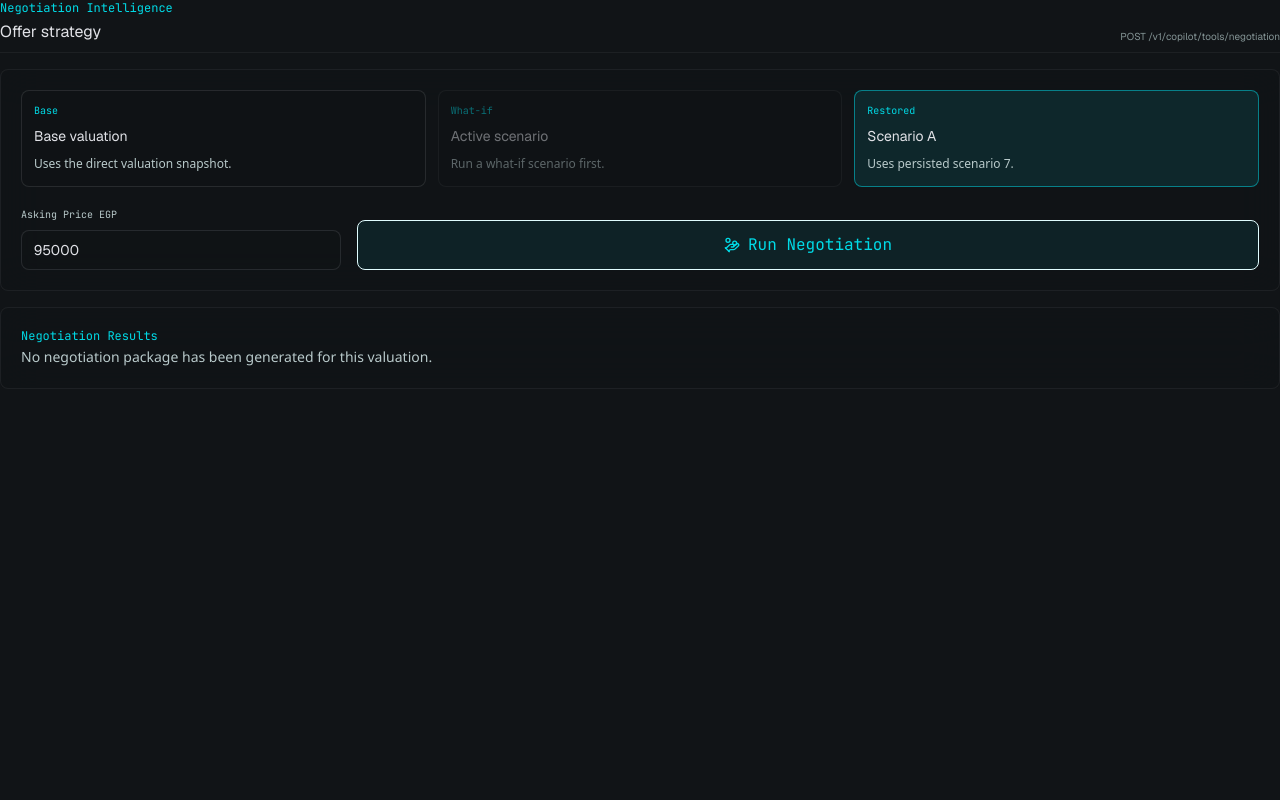
Test: NegotiationIntelligencePanel › compares negotiation outcomes after multiple scenario runs
Click the button "Base Base valuation Uses the direct valuation snapshot.": [81, 136] box [21,90,426,187]
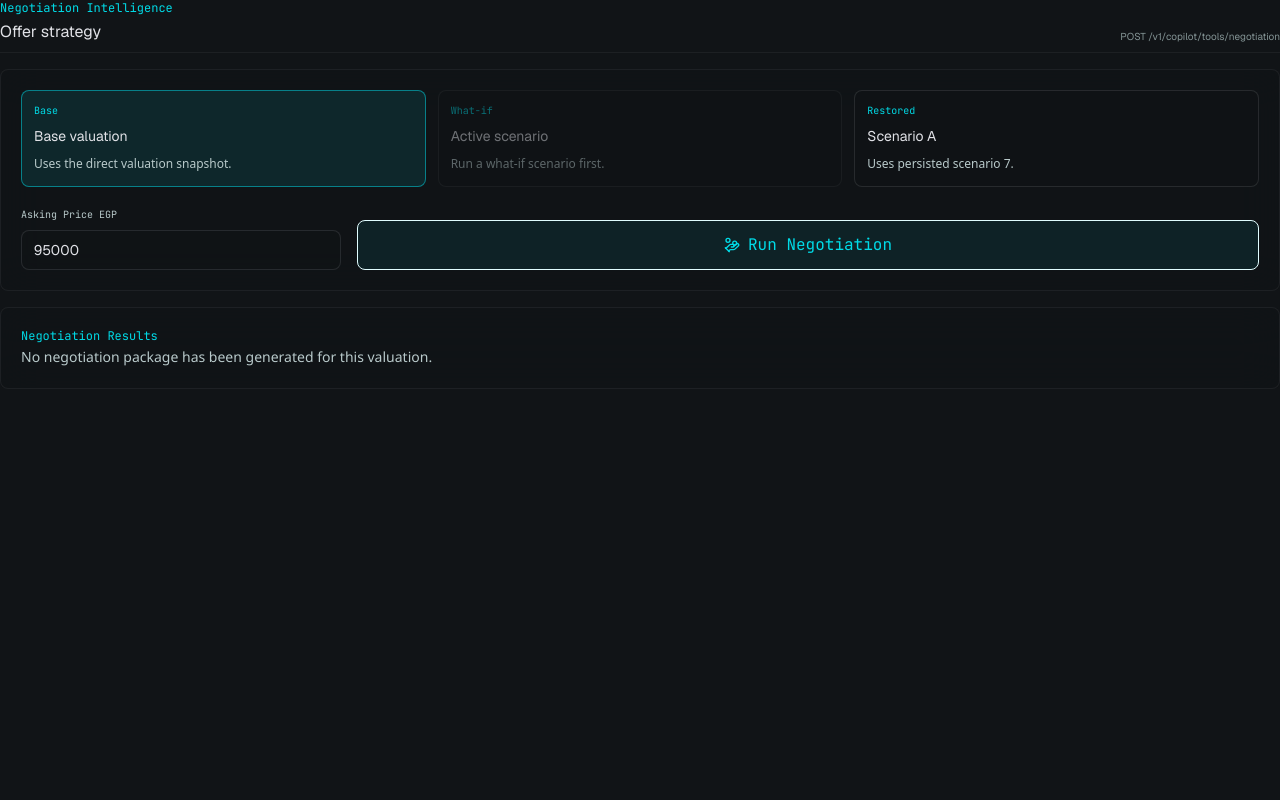
Click the button "Run Negotiation": [808, 245] box [357,220,1259,270]
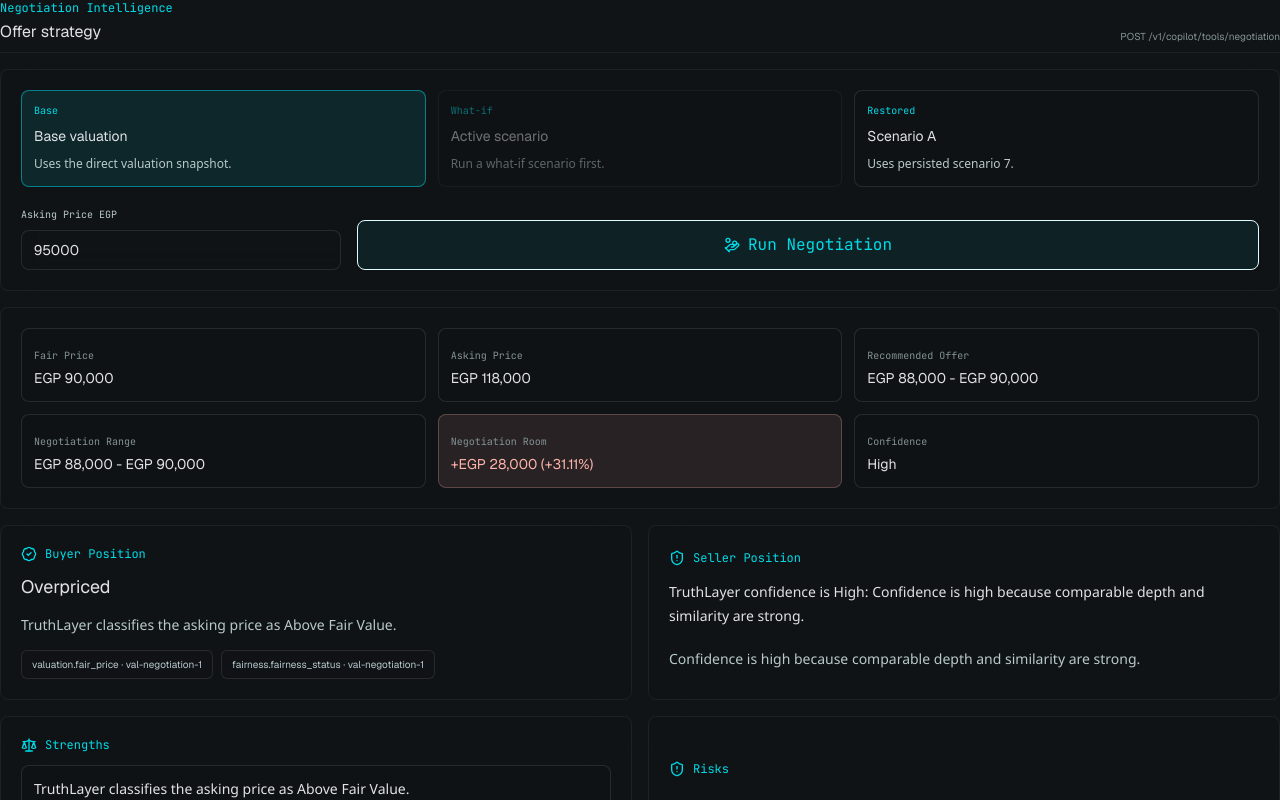
Expected: the text "Overpriced" is shown, [21,576,110,599]
Click the button "Restored Scenario A Uses persisted scenario 7.": [891, 110] box [854,90,1259,187]
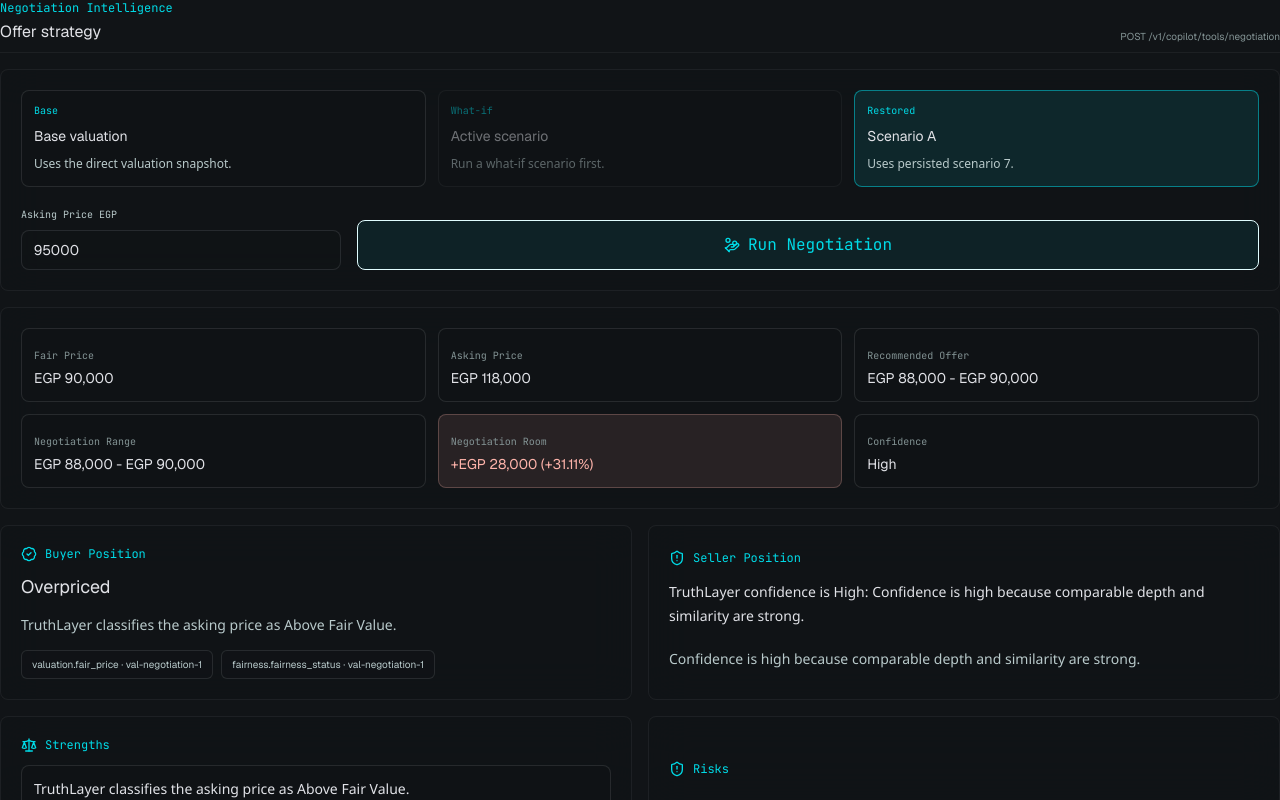
Click the button "Run Negotiation": [808, 245] box [357,220,1259,270]
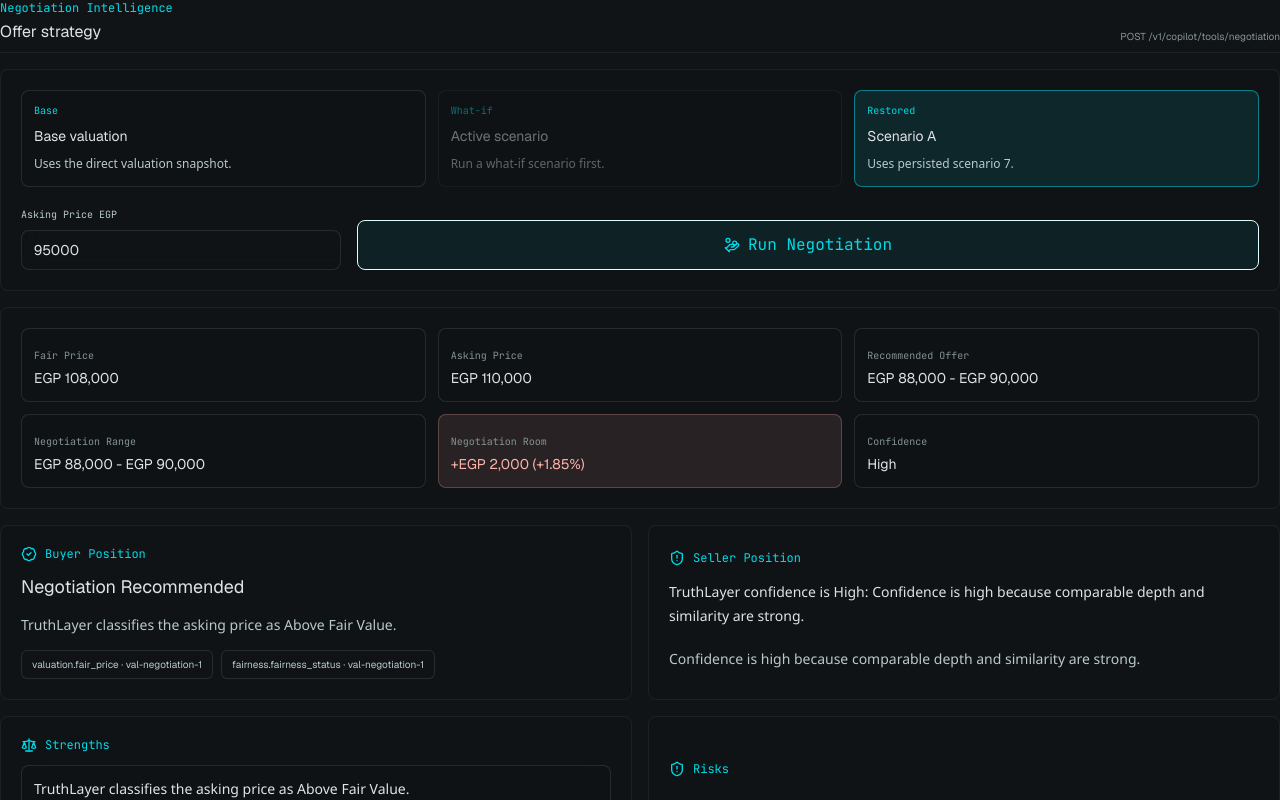
Expected: the text "Base valuation" is shown, [34,127,128,145]
Expected: the text "Negotiation Recommended" is shown, [21,576,244,599]
